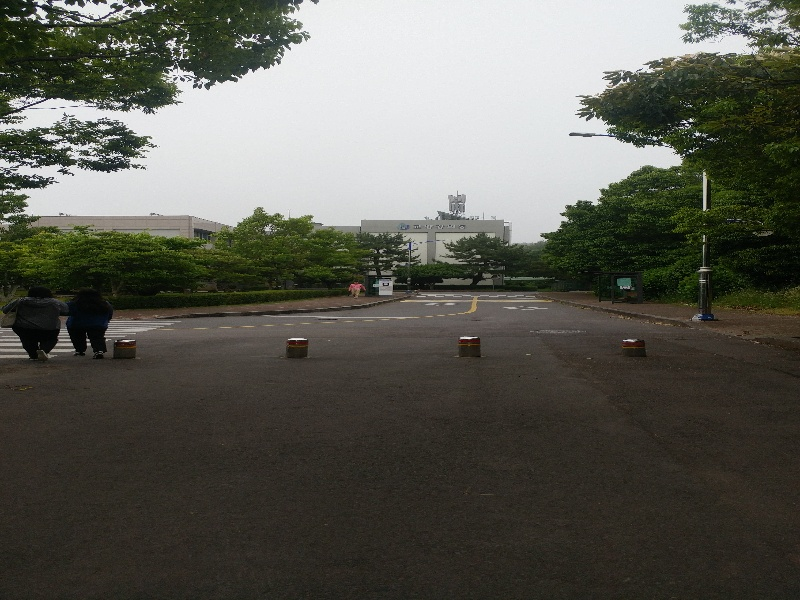College of Nursing: (23, 213, 239, 244)
Cultural lecture hall: (363, 195, 522, 277), (394, 217, 479, 234)
